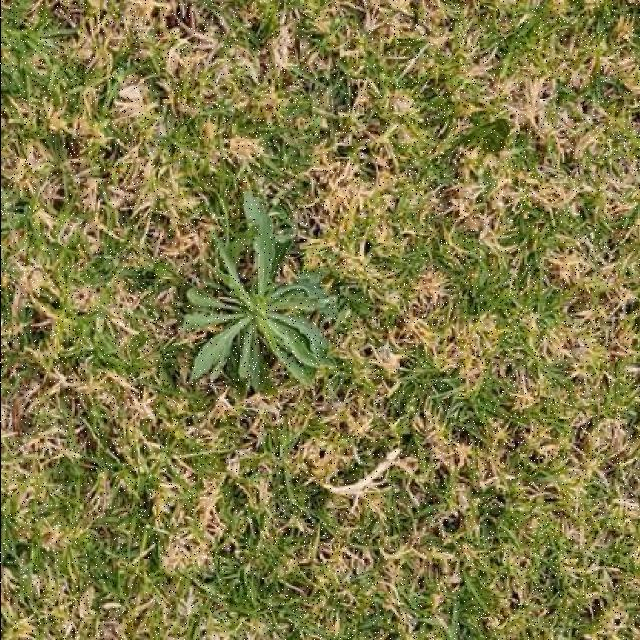weed: (181, 191, 334, 391)
